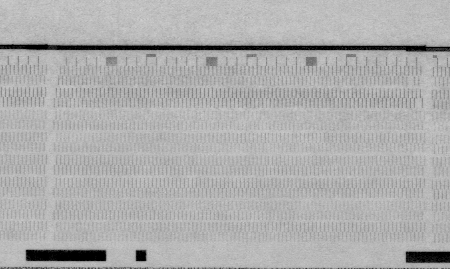Broken hole: (413, 97, 424, 109), (405, 74, 416, 86)
